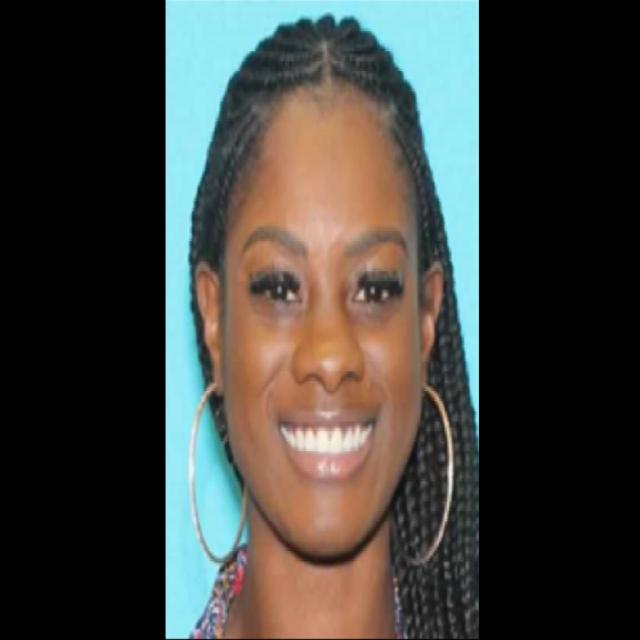mobile_phonerotation: (177, 11, 477, 635)
